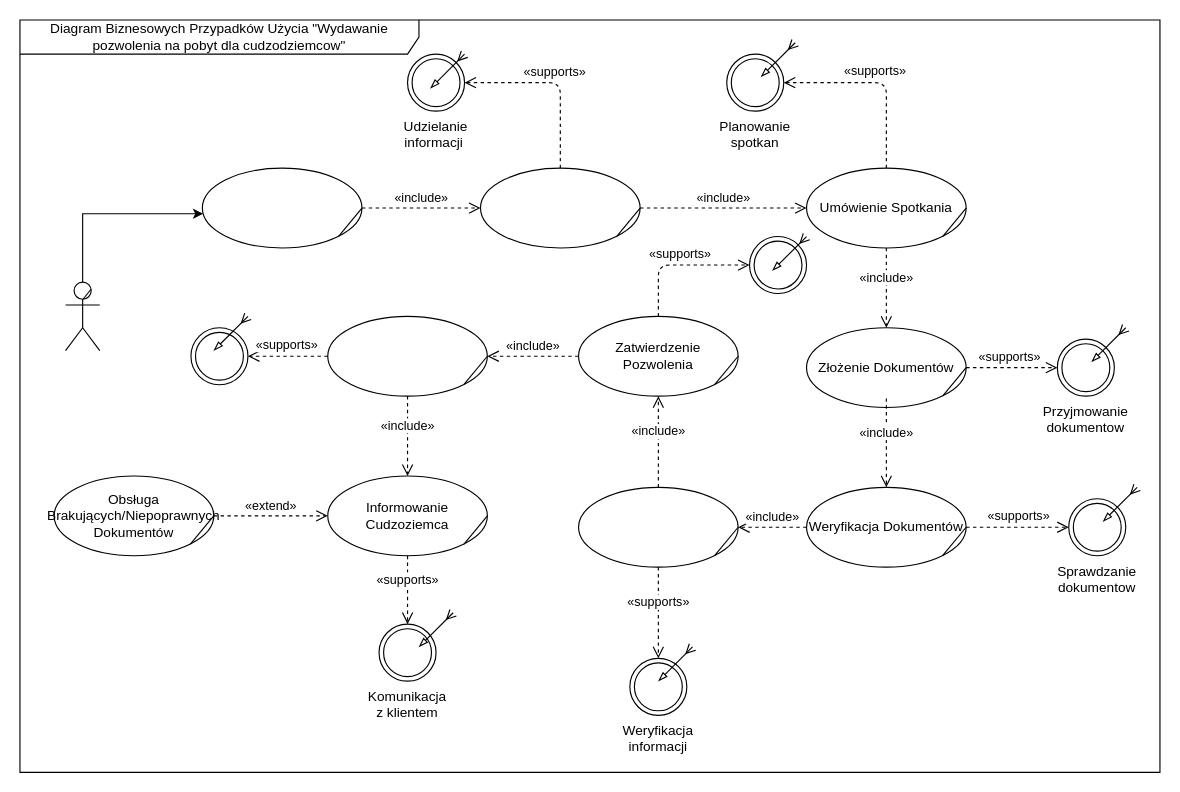
This 1180x792 diagram has some shape labels left out. Each missing label, with the centre of its shape:
"Decyzje administracyjne" belongs at point (777, 264).
"Drukowanie Pozwolenia" belongs at point (407, 355).
"Kontakt z Biurem Informacji" belongs at point (559, 207).
"Produkcja dokumentow" belongs at point (219, 356).
"Przetwarzanie Dokumentów" belongs at point (657, 526).
"Złożenie Wniosku o Pozwolenie na Pobyt" belongs at point (281, 207).
"«business actor» Cudzoziemiec" belongs at point (82, 316).
